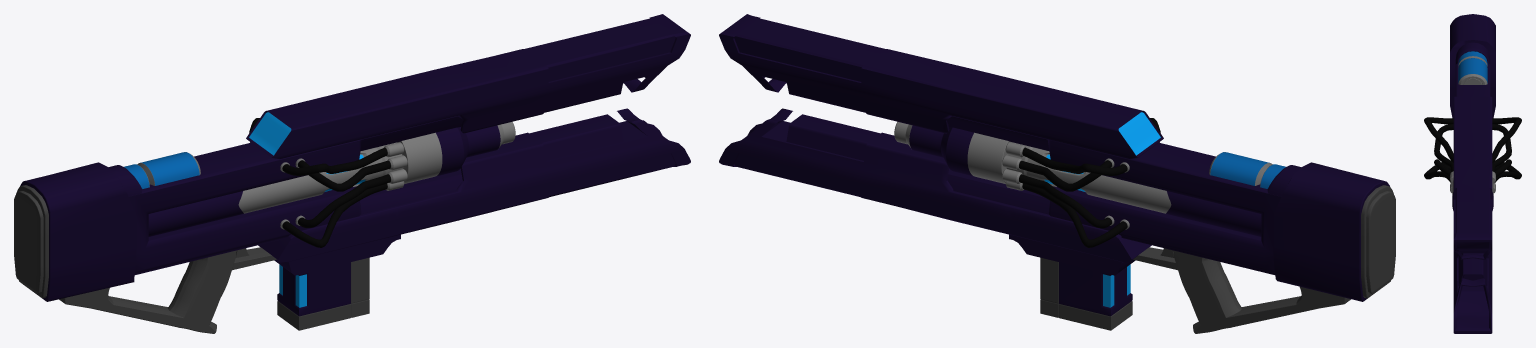
File: laser_gun.glb
3 renders of one model, left to right at view 1: azimuth 30°, elevation 25°; view 2: azimuth 150°, elevation 25°; view 3: azimuth 270°, elevation 25°, orthographic. The views are drawn at different scales.
Visible parts, largest first — view 1: LaserGun; view 2: LaserGun; view 3: LaserGun.
Part boxes in pixels (x1,y1,x2,y2): LaserGun: [14, 14, 690, 333]; LaserGun: [719, 14, 1395, 333]; LaserGun: [1424, 14, 1521, 333].
Bounding box in the file's own units: 17.44 × 5.26 × 3.12.
